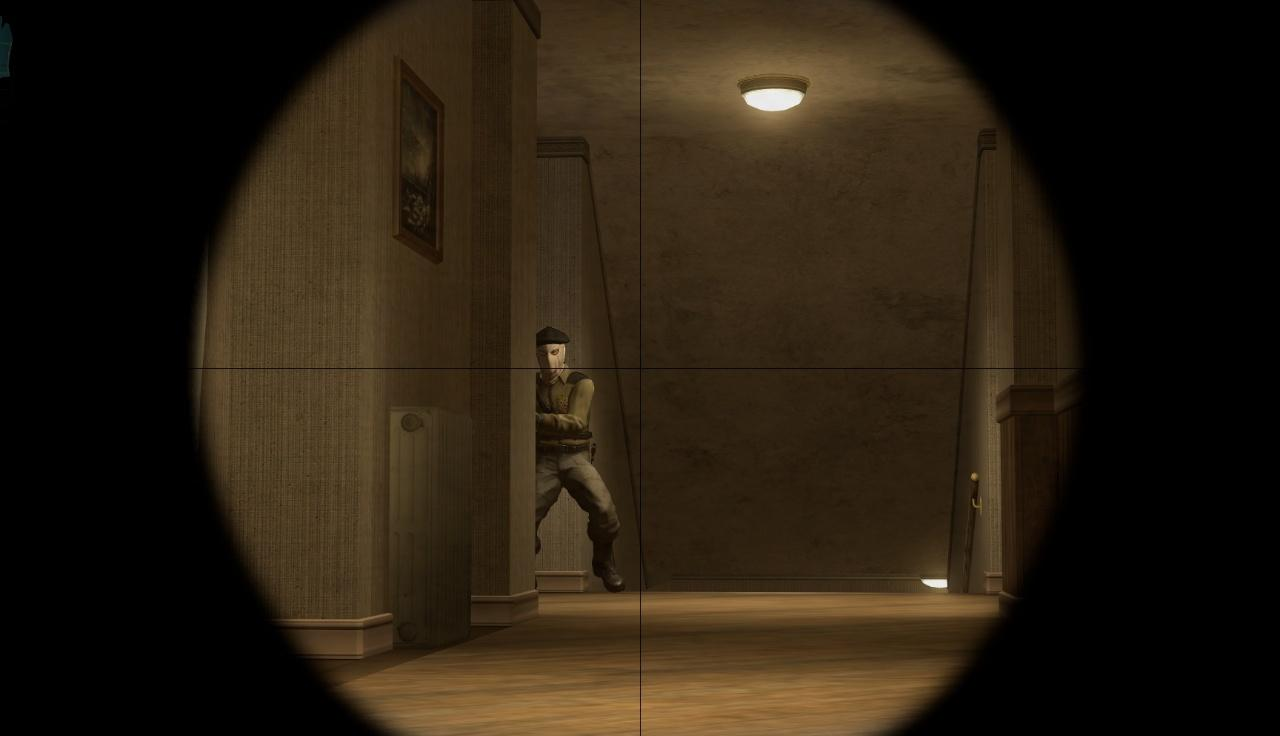tt: (528, 331, 628, 590)
tthead: (535, 327, 571, 381)
